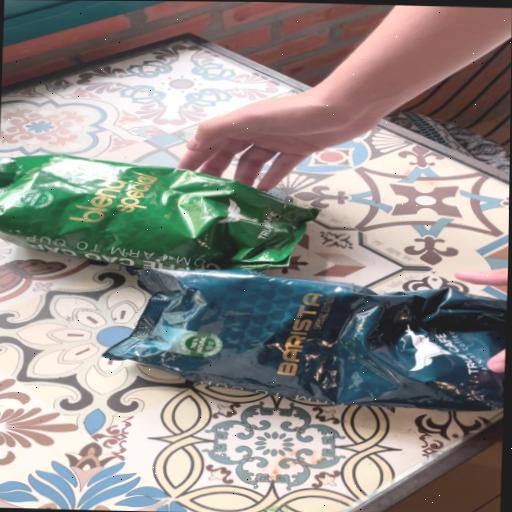cafe_hat: (103, 269, 507, 411)
cafe_xay: (0, 155, 318, 270)
